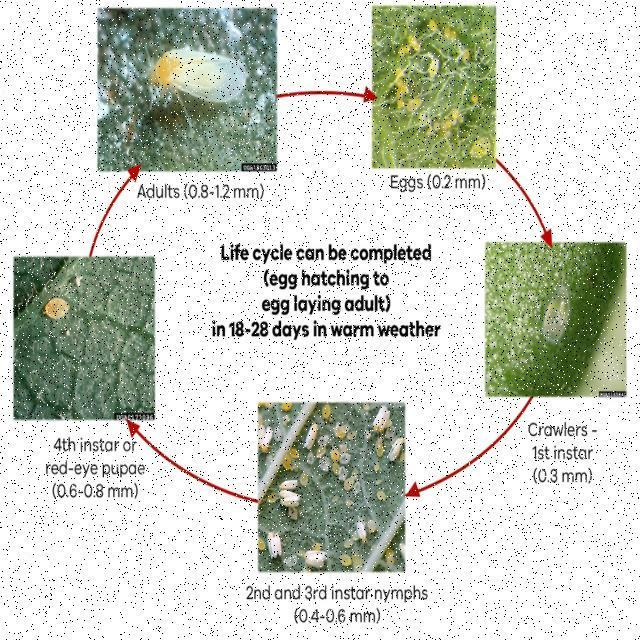Whiteflies: (141, 37, 259, 130)
